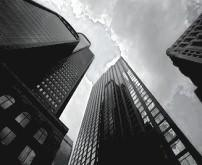building: (0, 0, 95, 165), (68, 55, 202, 165), (166, 11, 202, 104)
